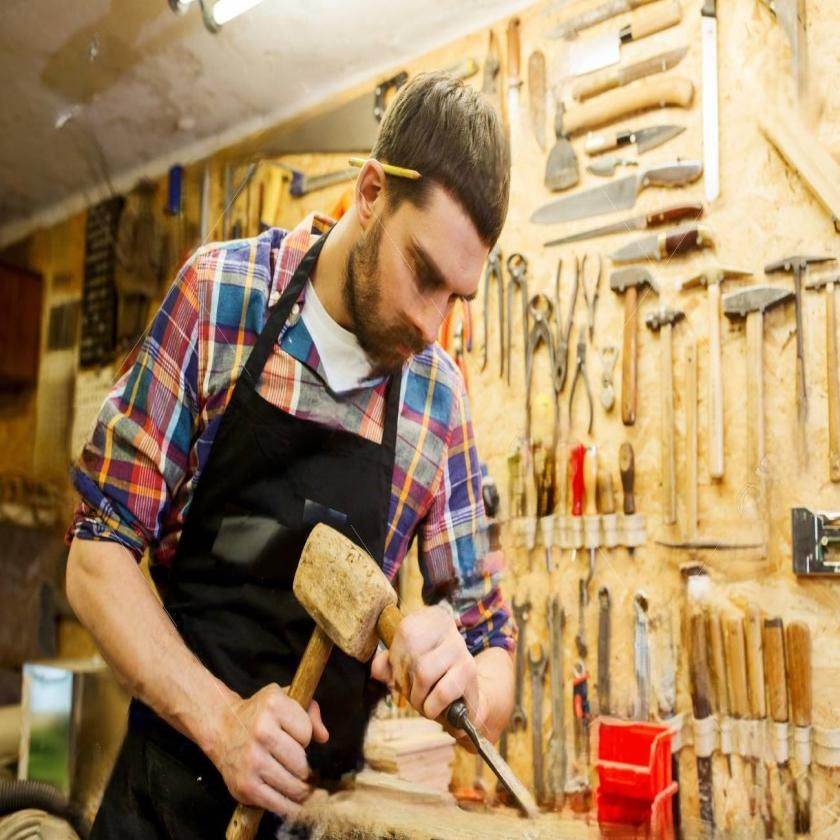Sin_casco: (348, 63, 511, 423)
